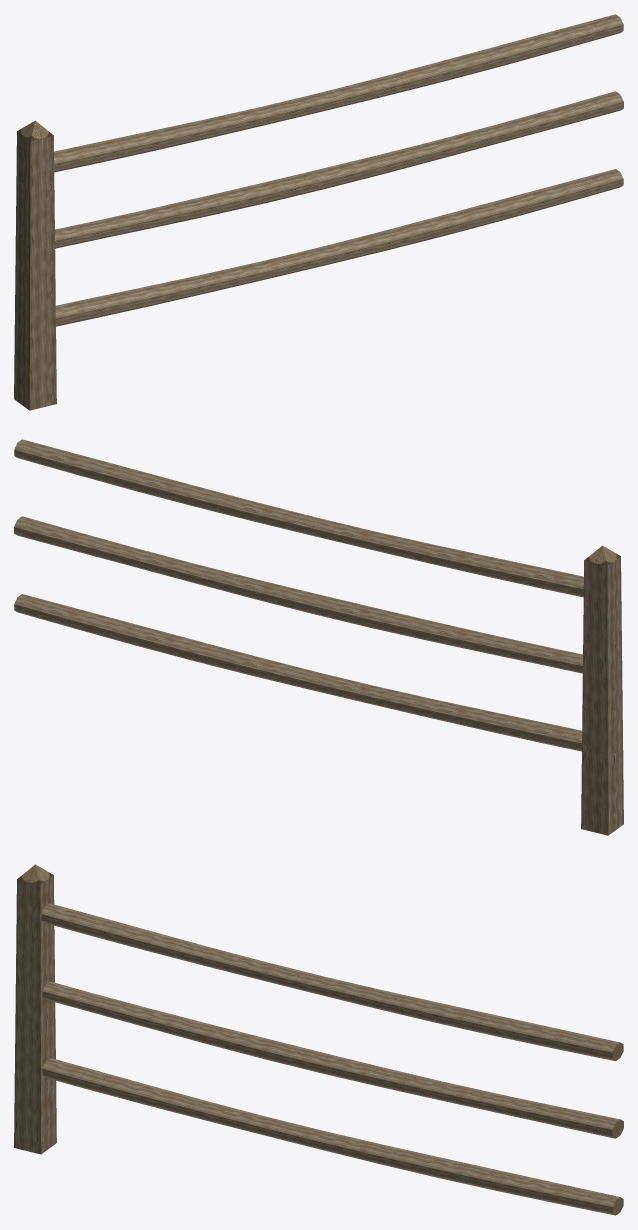
Rendered from fence_split_rail.fbx.
The picture shows the model from 3 angles, top to bottom: view 1: azimuth 30°, elevation 25°; view 2: azimuth 150°, elevation 25°; view 3: azimuth 330°, elevation 25°; orthographic projection.
Visible parts, largest first — view 1: FenceSplitRailMesh.001; view 2: FenceSplitRailMesh.001; view 3: FenceSplitRailMesh.001.
Part boxes in pixels (x1=…): FenceSplitRailMesh.001: x1=14, y1=14, x2=623, y2=410; FenceSplitRailMesh.001: x1=14, y1=439, x2=623, y2=835; FenceSplitRailMesh.001: x1=14, y1=864, x2=623, y2=1215.
Bounding box in the file's own units: 7.8 × 0.3556 × 3.51.
